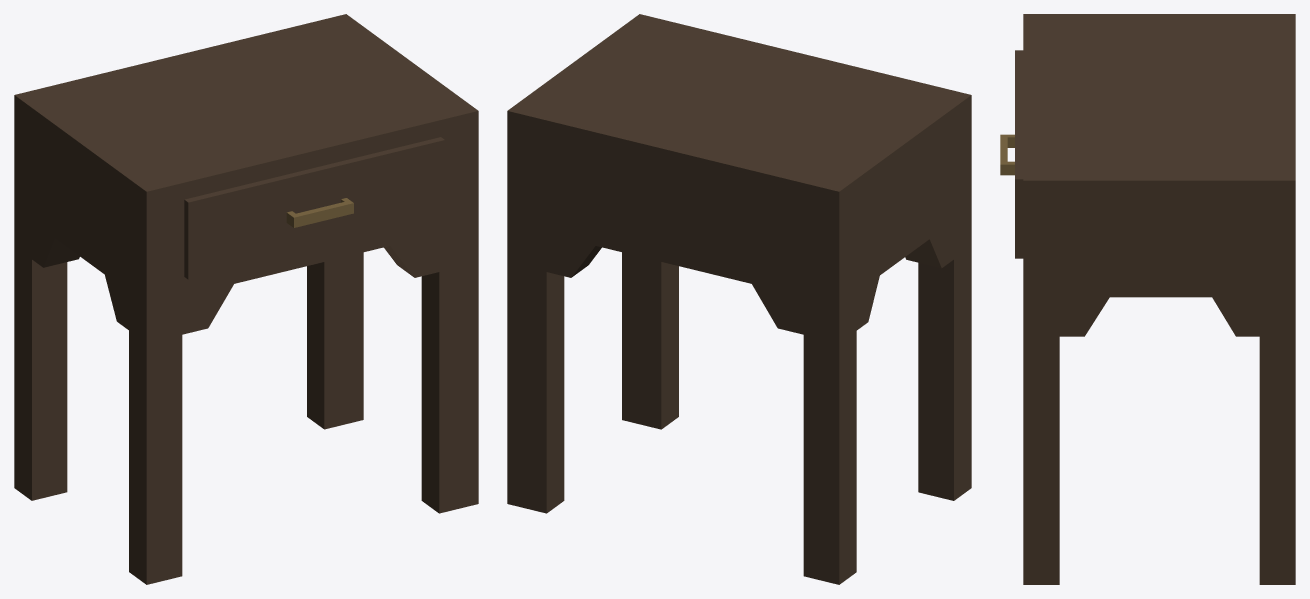
File: meja kecil.fbx
3 views of the same model, side by side, from view 1: azimuth 30°, elevation 25°; view 2: azimuth 150°, elevation 25°; view 3: azimuth 270°, elevation 25° (orthographic). The views are drawn at different scales.
Parts seen in each view (by area): view 1: Cube, Cube.001, Cube.002; view 2: Cube; view 3: Cube, Cube.001, Cube.002.
Part boxes in pixels (left/top/right/bottom): Cube: left=14, top=14, right=478, bottom=584; Cube.001: left=184, top=137, right=444, bottom=279; Cube.002: left=286, top=198, right=353, bottom=227; Cube: left=507, top=14, right=971, bottom=584; Cube: left=1023, top=14, right=1295, bottom=584; Cube.001: left=1015, top=50, right=1023, bottom=258; Cube.002: left=1000, top=134, right=1014, bottom=175.
Size of the model in its own units: 290 by 328 by 217.
3 materials, 3 textured.
